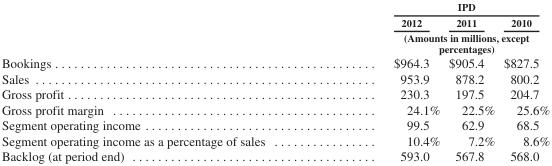table: (0, 0, 549, 163)
table column: (0, 0, 328, 163), (328, 0, 443, 163), (443, 0, 498, 163), (498, 0, 549, 163)
table column header: (0, 0, 549, 54)
table row: (0, 29, 549, 54), (0, 54, 549, 70), (0, 70, 549, 86), (0, 101, 549, 117), (0, 132, 549, 148), (0, 14, 549, 29), (0, 86, 549, 101), (0, 117, 549, 132), (0, 148, 549, 163), (0, 0, 549, 14)
table spanning cell: (328, 29, 549, 54), (328, 0, 549, 14)
